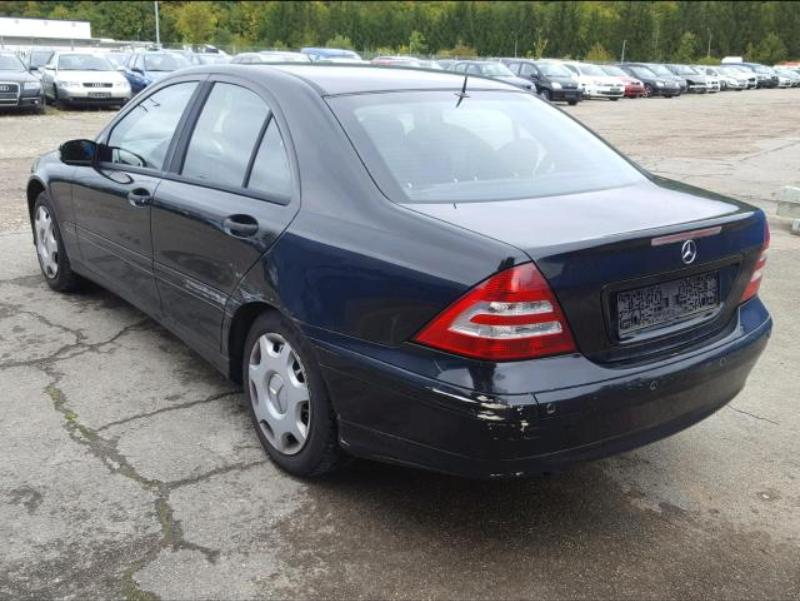Back-bumper: (298, 297, 772, 476)
Back-door: (153, 75, 299, 353)
Back-wheel: (242, 312, 346, 477)
Back-window: (166, 80, 305, 209)
Fender: (26, 149, 88, 269)
Front-door: (70, 75, 209, 314)
Front-wheel: (34, 192, 86, 289)
Front-window: (96, 77, 205, 173)
License-plate: (614, 264, 725, 340)
Mirror: (60, 138, 98, 163)
Quarter-panel: (216, 202, 533, 376)
Rocker-panel: (70, 260, 218, 366)
Roof: (170, 66, 514, 95)
Tail-light: (413, 266, 579, 360), (744, 228, 769, 302)
Trunk: (402, 175, 768, 364)
Windshield: (331, 91, 647, 204)
